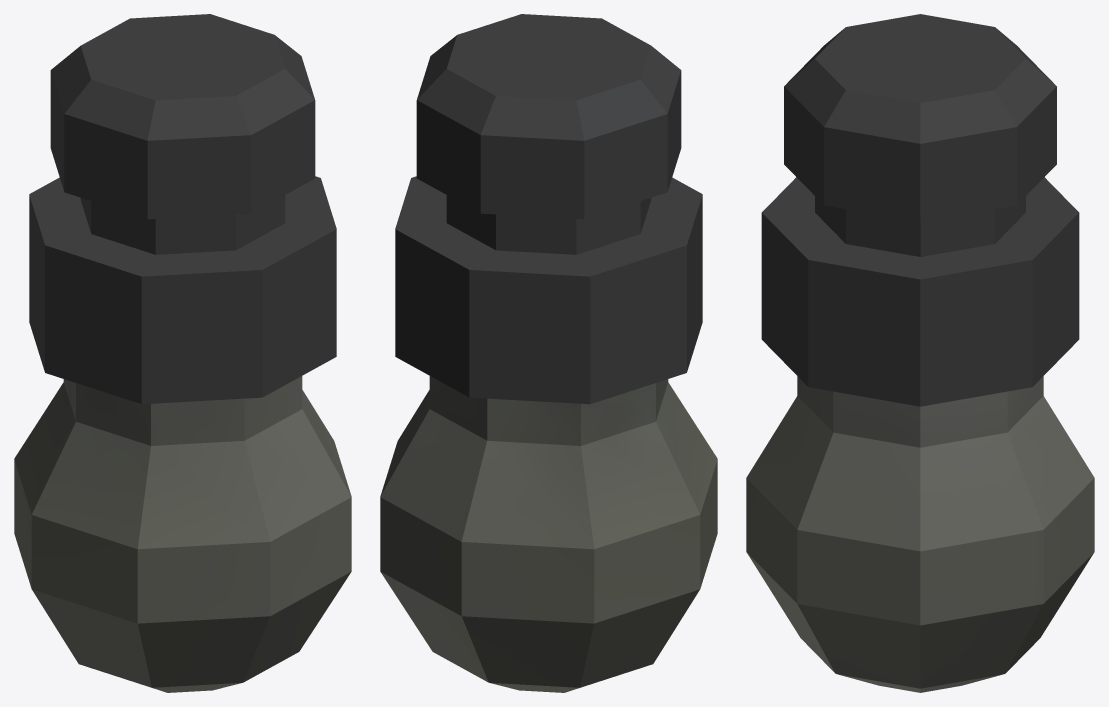
The model's file is TDB_LightBulb.fbx.
3 views of the same model, side by side, from view 1: azimuth 30°, elevation 25°; view 2: azimuth 150°, elevation 25°; view 3: azimuth 270°, elevation 25° (orthographic).
Visible parts, largest first — view 1: Bulb; view 2: Bulb; view 3: Bulb.
Boxes of the visible parts, x1=… form: Bulb: x1=14, y1=14, x2=351, y2=692; Bulb: x1=380, y1=14, x2=717, y2=692; Bulb: x1=746, y1=14, x2=1094, y2=692.
Bounding box in the file's own units: 0.1783 × 0.1783 × 0.3443.
